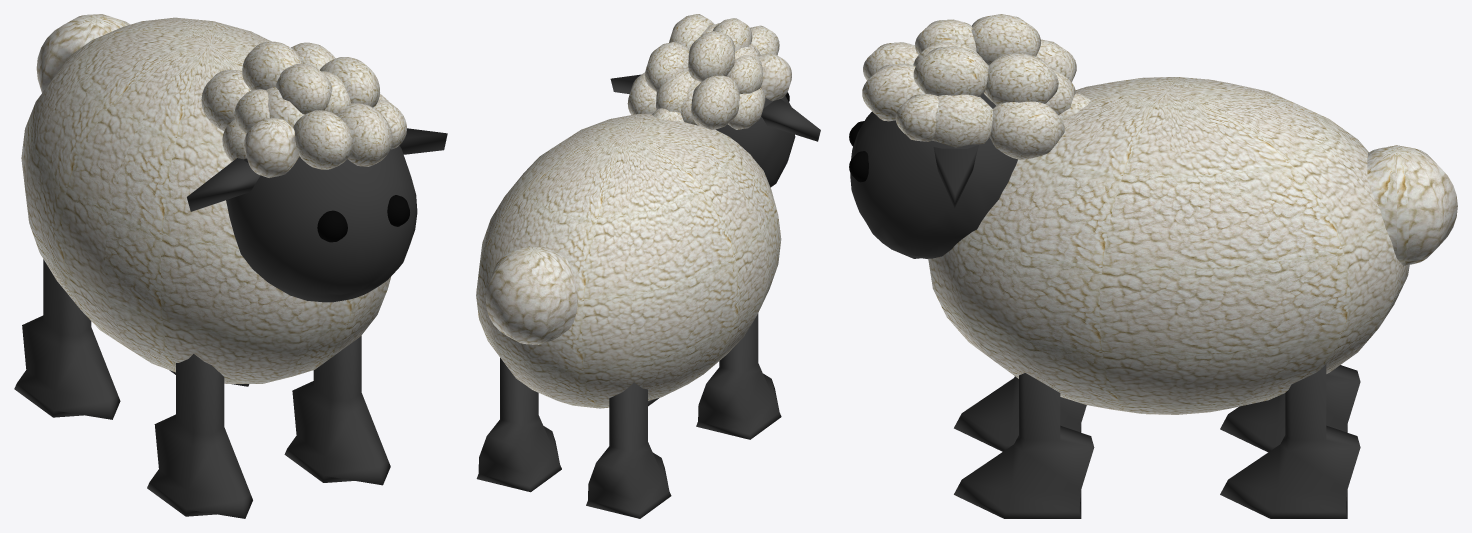
The model's file is EEp.fbx.
3 views of the same model, side by side, from view 1: azimuth 30°, elevation 25°; view 2: azimuth 150°, elevation 25°; view 3: azimuth 270°, elevation 25° (orthographic). The views are drawn at different scales.
Visible parts, largest first — view 1: Top; view 2: Top; view 3: Top.
Part boxes in pixels (left/top/right/bottom): Top: left=14, top=14, right=447, bottom=518; Top: left=476, top=14, right=820, bottom=518; Top: left=849, top=14, right=1457, bottom=518.
Bounding box in the file's own units: 64.52 × 96.56 × 119.
4 materials, 2 textured.
